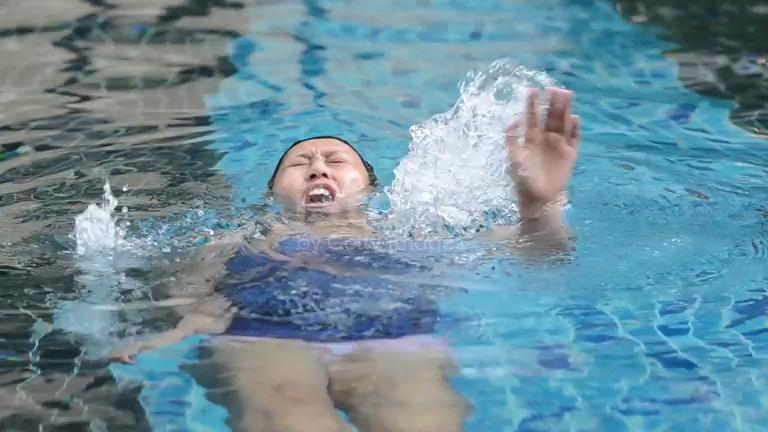Drowning: (63, 31, 647, 394)
